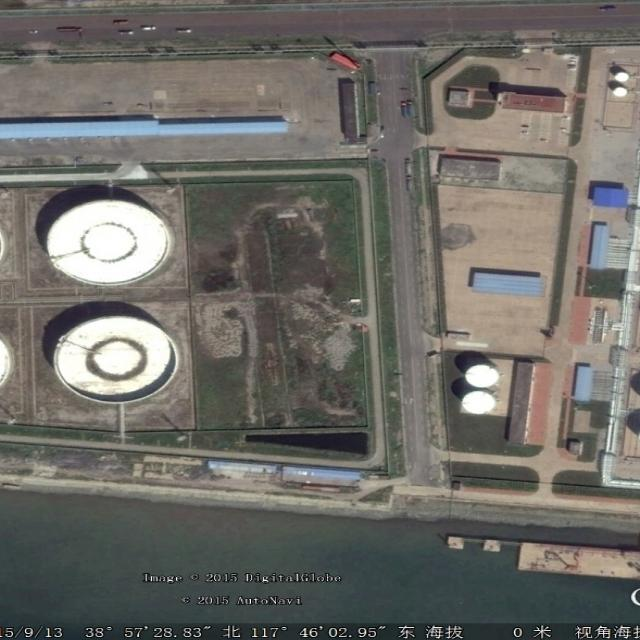oiltank: (39, 192, 179, 294), (45, 310, 187, 409), (1, 316, 14, 416), (1, 201, 11, 295)
